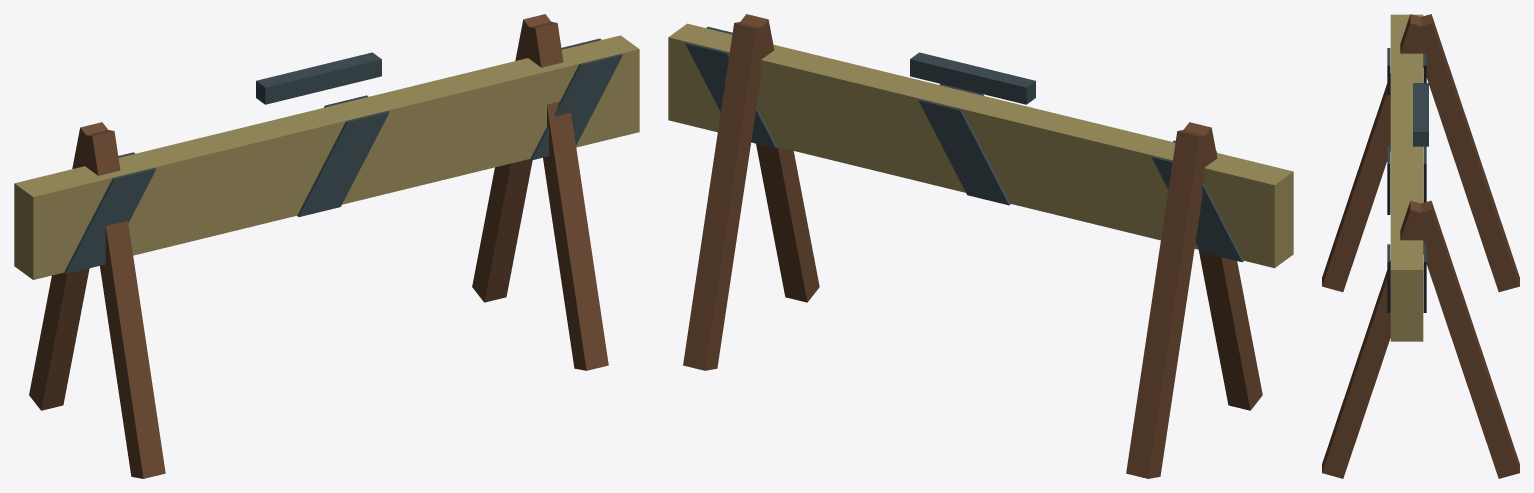
File: Prop_Daily_RoadworkBarricade_001_LOD1.glb
The picture shows the model from 3 angles, left to right: view 1: azimuth 30°, elevation 25°; view 2: azimuth 150°, elevation 25°; view 3: azimuth 270°, elevation 25°; orthographic projection. The views are drawn at different scales.
Parts seen in each view (by area): view 1: Prop_Daily_RoadworkBarricade_001_LOD1; view 2: Prop_Daily_RoadworkBarricade_001_LOD1; view 3: Prop_Daily_RoadworkBarricade_001_LOD1.
Boxes of the visible parts, x1,y1,x2,y2 form: Prop_Daily_RoadworkBarricade_001_LOD1: (14, 14, 639, 478); Prop_Daily_RoadworkBarricade_001_LOD1: (668, 14, 1293, 478); Prop_Daily_RoadworkBarricade_001_LOD1: (1322, 14, 1519, 478).
Bounding box in the file's own units: 2.6 × 1.3 × 0.8509.
